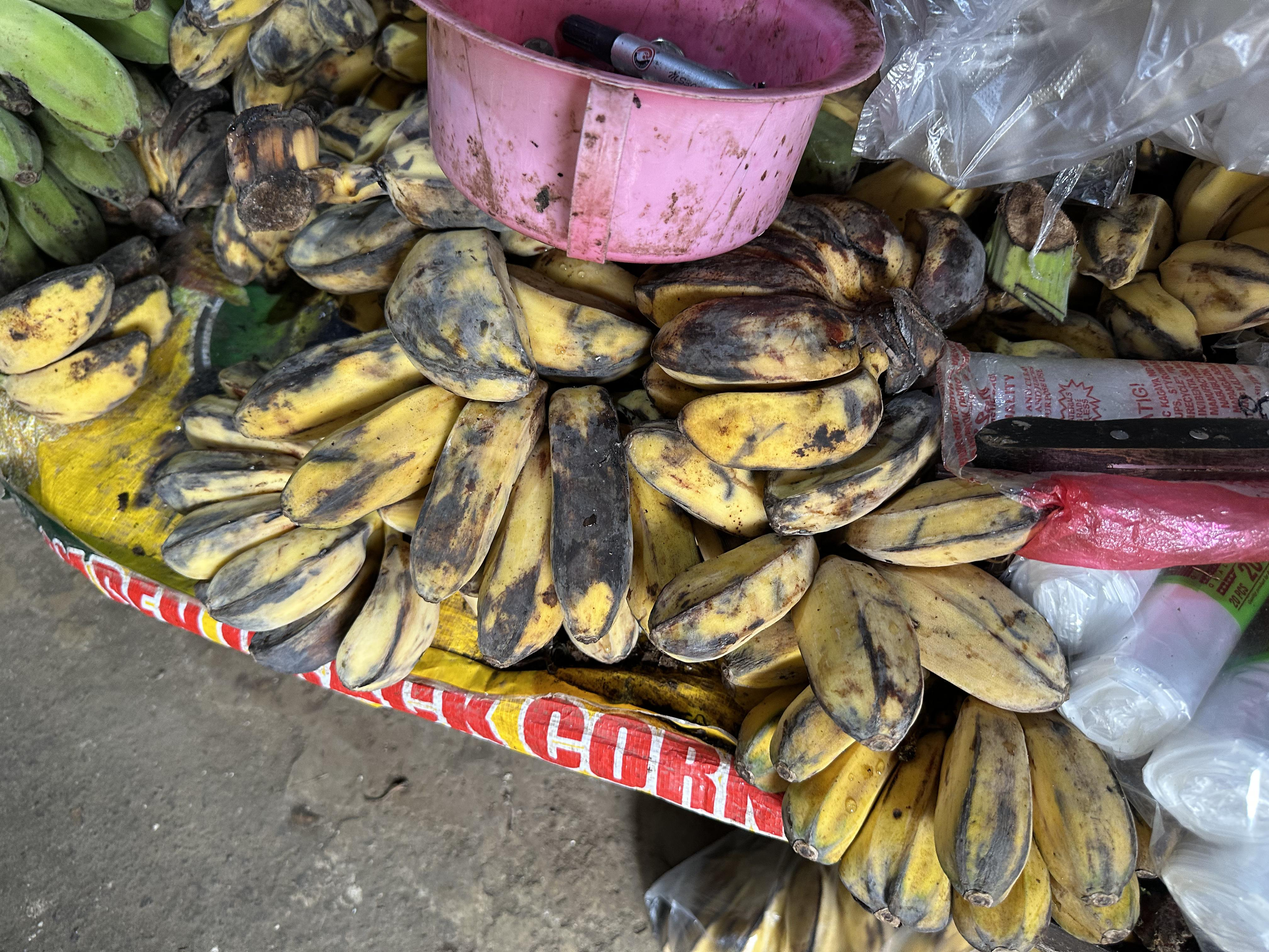overripe: (636, 196, 916, 469)
ripe: (233, 330, 699, 667), (649, 480, 1069, 749), (736, 687, 1138, 952), (156, 363, 438, 691), (287, 196, 652, 402), (1091, 159, 1269, 360), (0, 237, 174, 423), (169, 0, 378, 112), (353, 97, 502, 231), (303, 20, 426, 111)
underripe: (0, 0, 177, 295)
